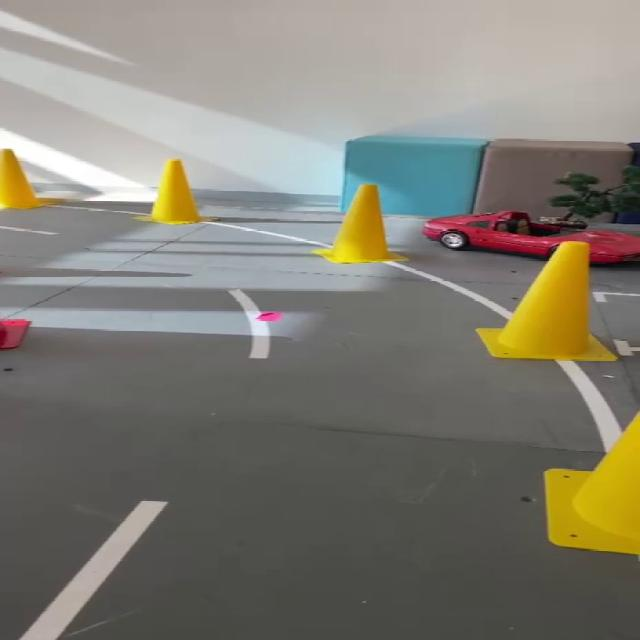Cone-red: (0, 318, 29, 349)
Cones-yellow: (476, 241, 617, 361), (546, 412, 639, 555), (545, 468, 639, 554), (314, 185, 400, 263), (145, 159, 206, 224), (0, 149, 62, 208)
